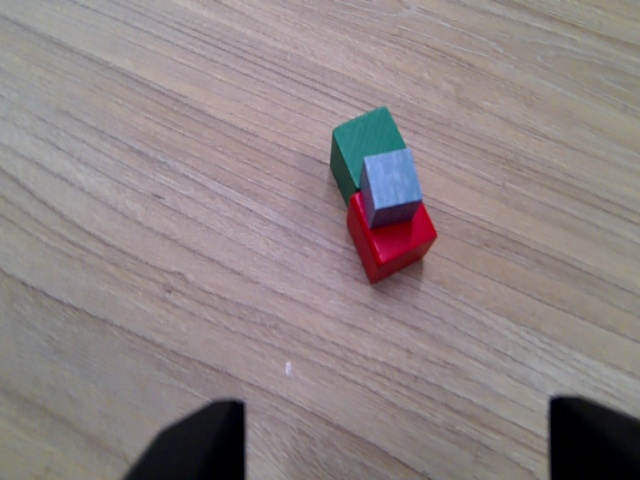stone: (355, 145, 431, 232)
